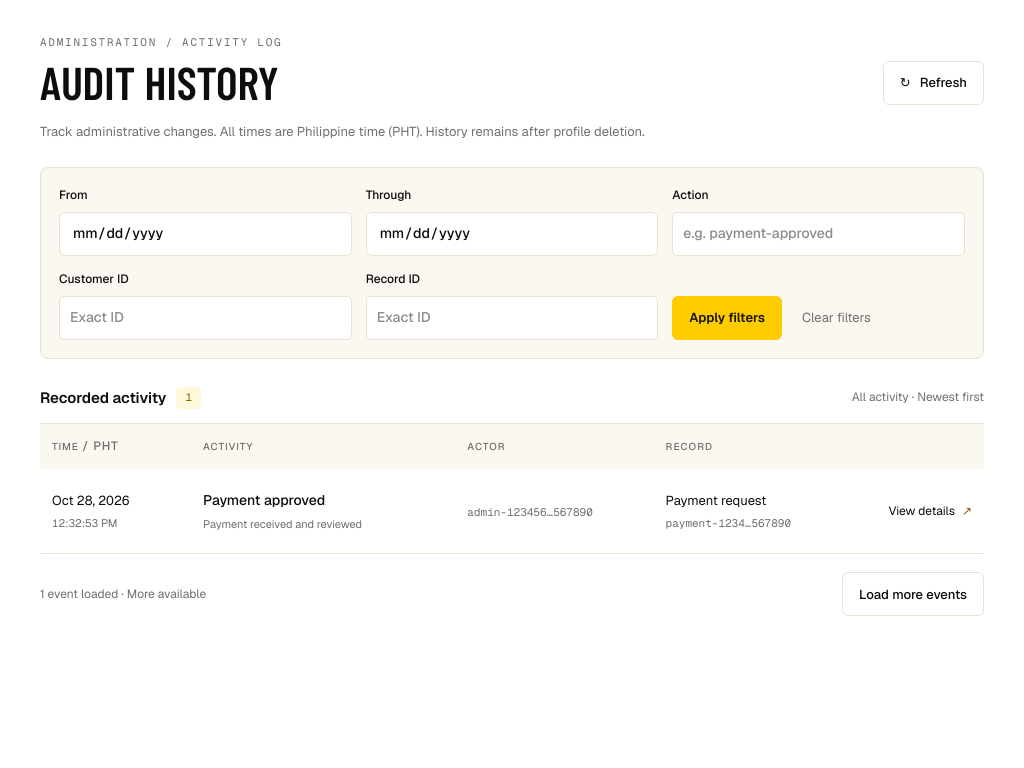
Test case: uses applied filters for pagination and refresh, appends events, and clears the query
Type "payment-approved" into the field labelled "Action" at (819, 234), box [672, 212, 965, 256]
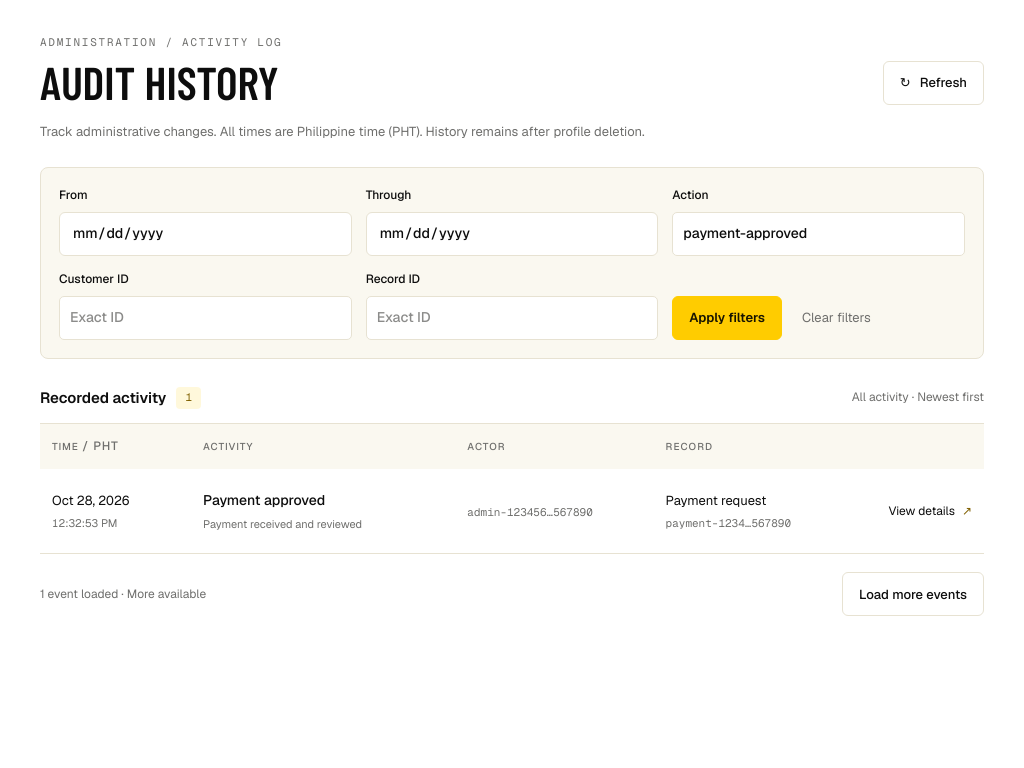
Click the button "Apply filters" at (727, 318), box [672, 296, 782, 340]
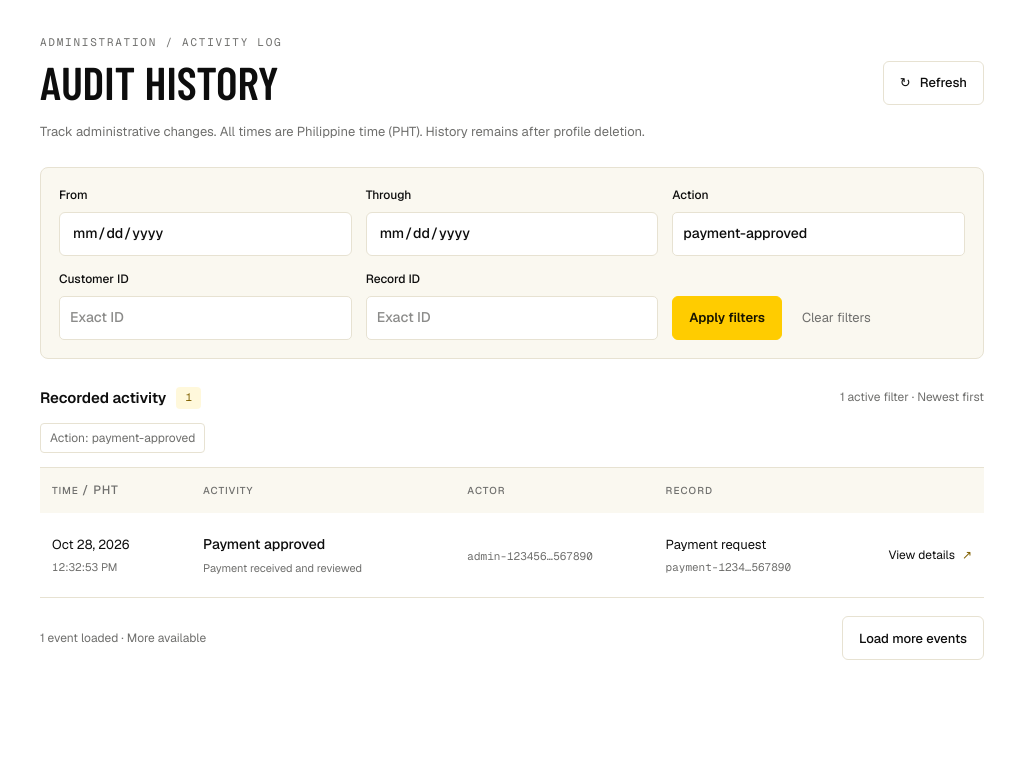
Replace the text in the field labelled "Action" with "rates-update" at (819, 234), box [672, 212, 965, 256]
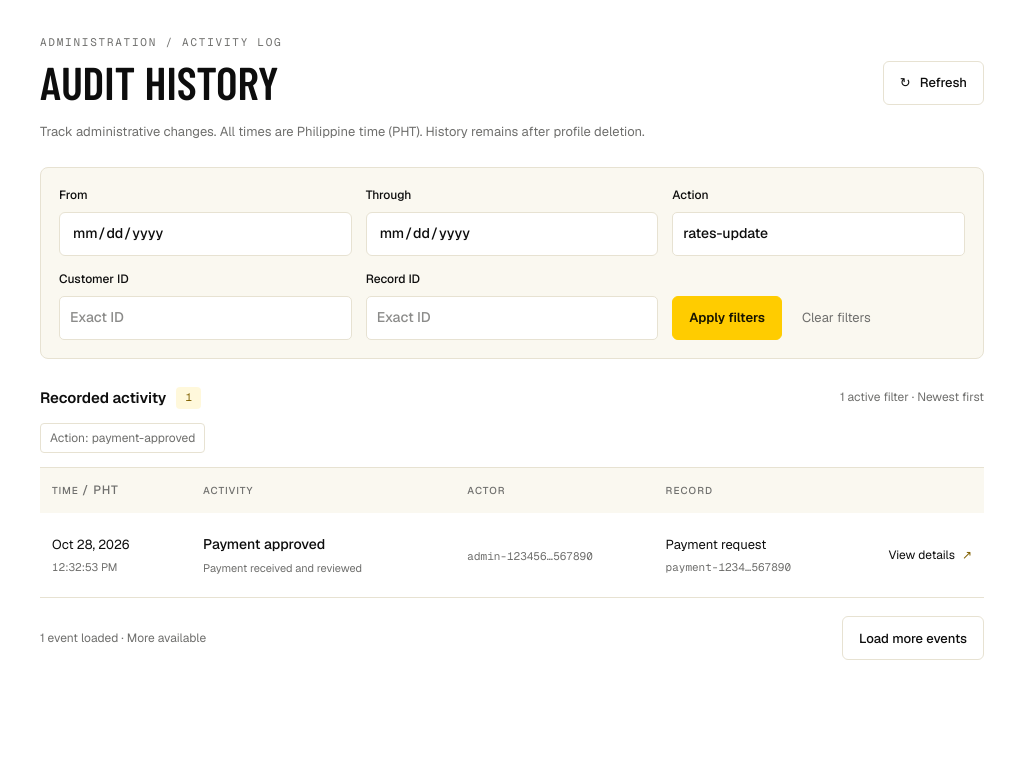
Click the button "Load more events" at (913, 638), box [842, 616, 984, 660]
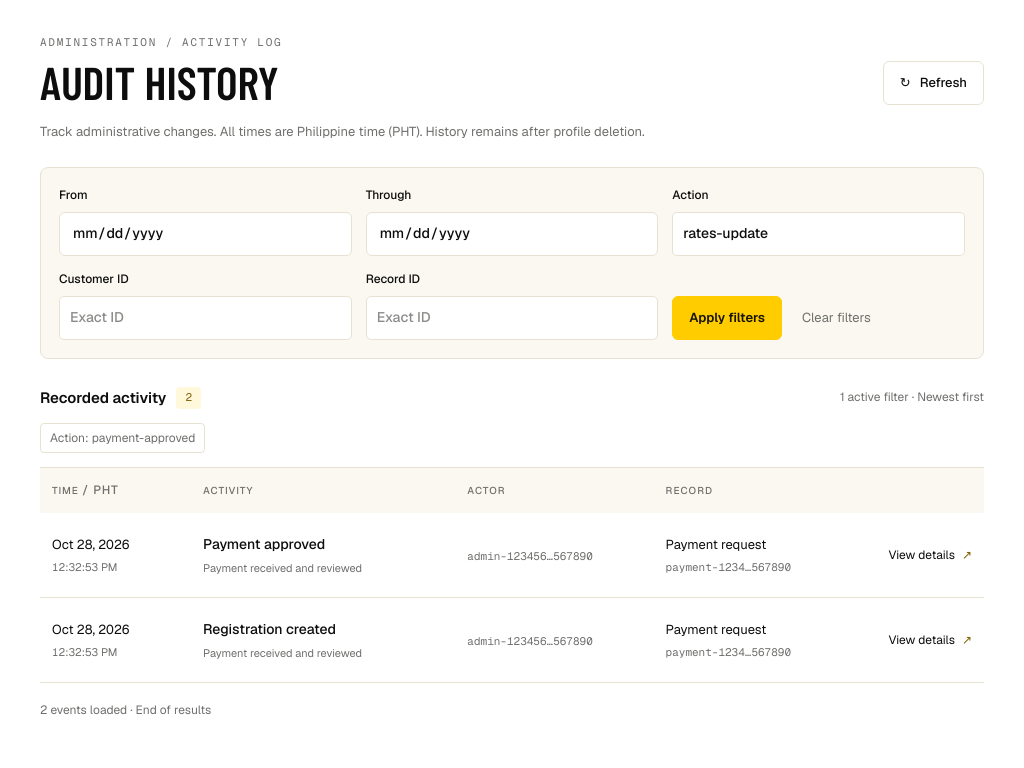
Check: the number of buttons named "View details:" is 2, box [888, 533, 972, 577]; [888, 618, 972, 662]
Click the button "↻ Refresh" at (933, 82), box [883, 60, 984, 104]
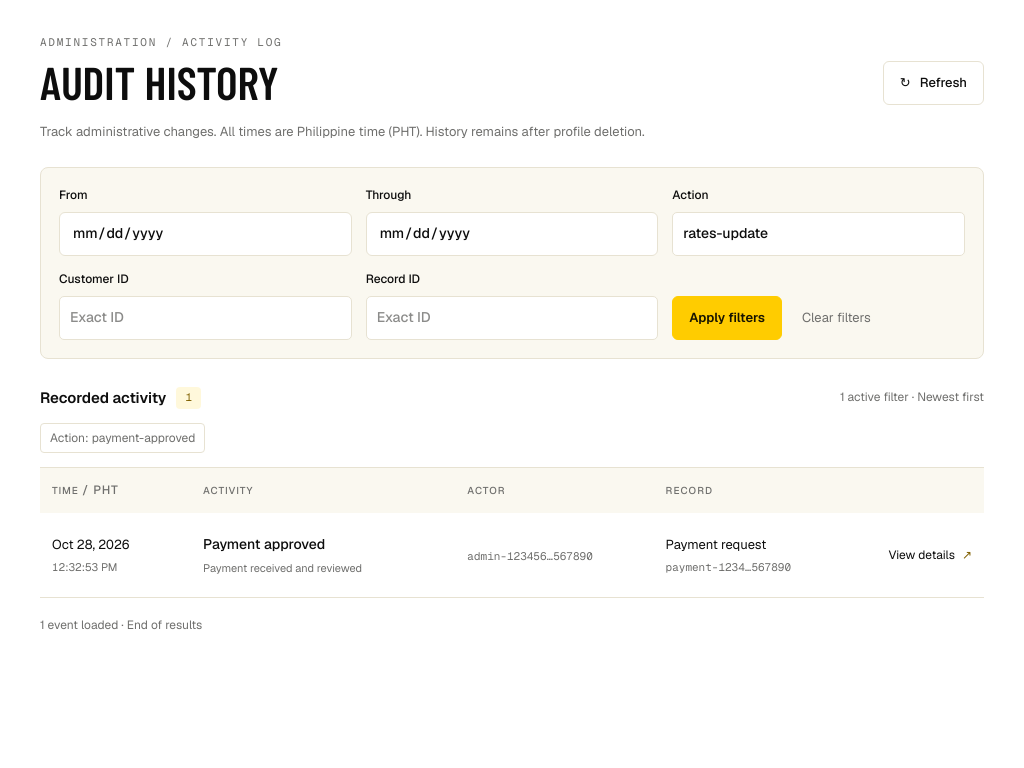
Click the button "Clear filters" at (836, 318), box [798, 296, 875, 340]
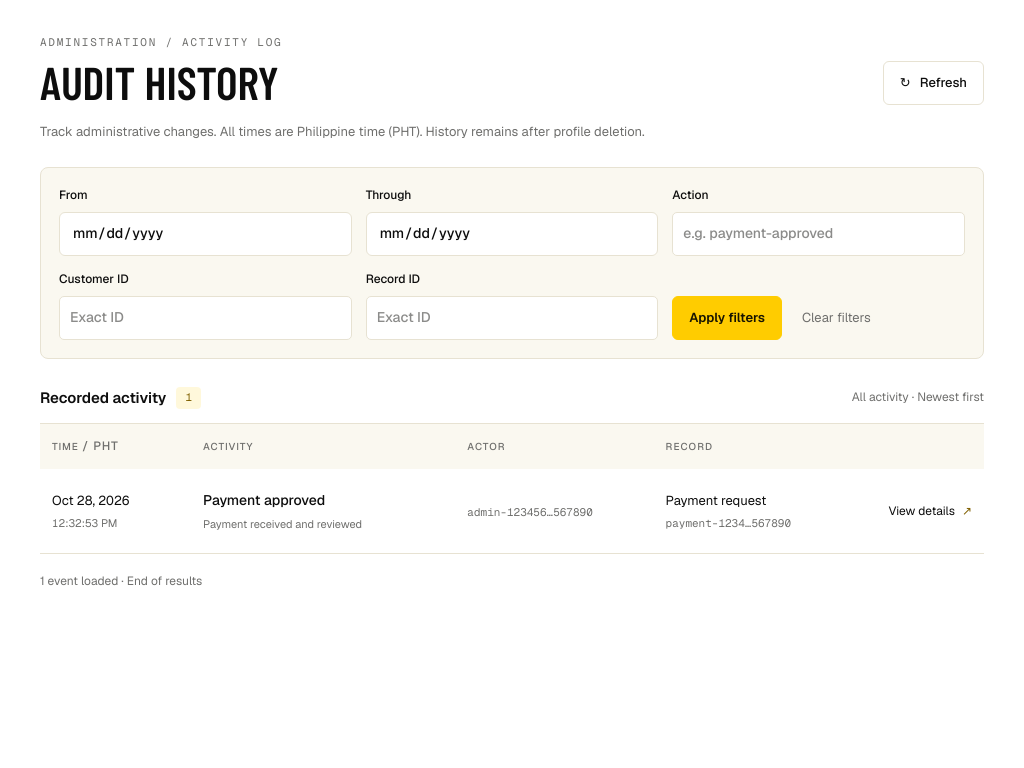
Check: the field labelled "Action" is empty, box [672, 212, 965, 256]
